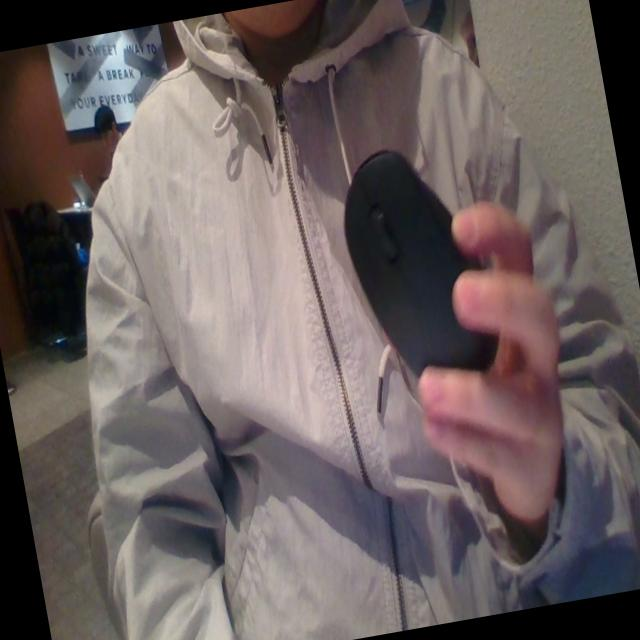grab_mouse: (328, 120, 590, 558)
mouse: (337, 125, 502, 411)
